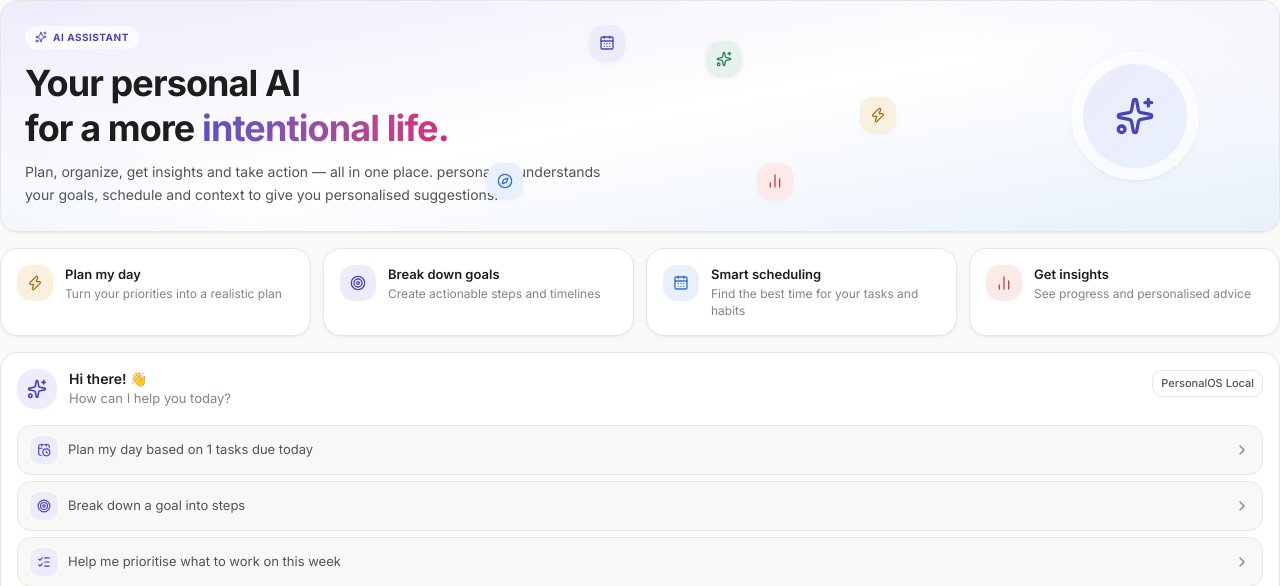
Scenario: quick prompts › runs a plan and offers the proposal for review
This screenshot has width=1280, height=586.
Click the button with test id "ai-suggestion-plan" at (191, 449), box [17,425,1263,475]
(page scrolled)
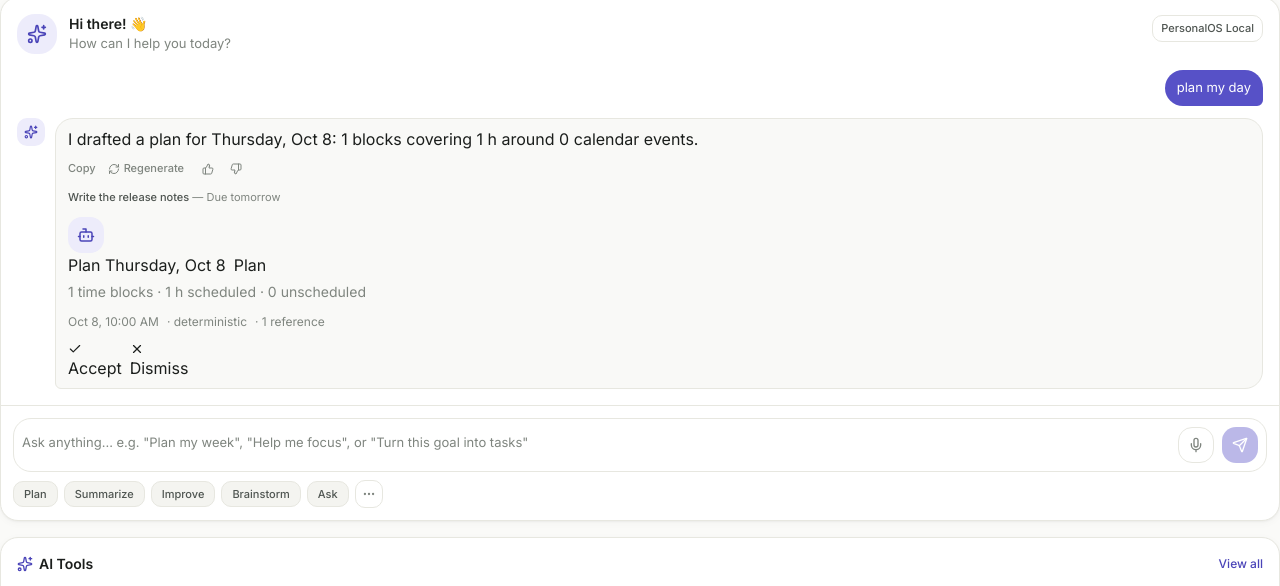
Expected: the text with test id "ai-user-message" reads "plan my day", [1177,79,1251,95]
Expected: the list with test id "ai-proposals" is shown, [68,217,366,380]
Expected: the button "Accept" is shown, [68,342,122,380]
